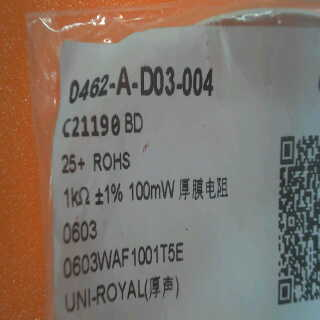1kR: (60, 183, 91, 210)
